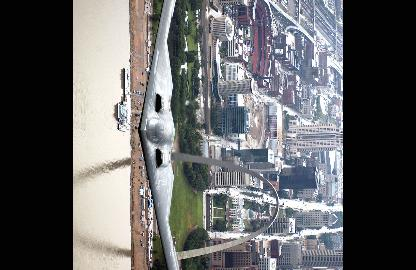B1: (139, 0, 182, 269)
